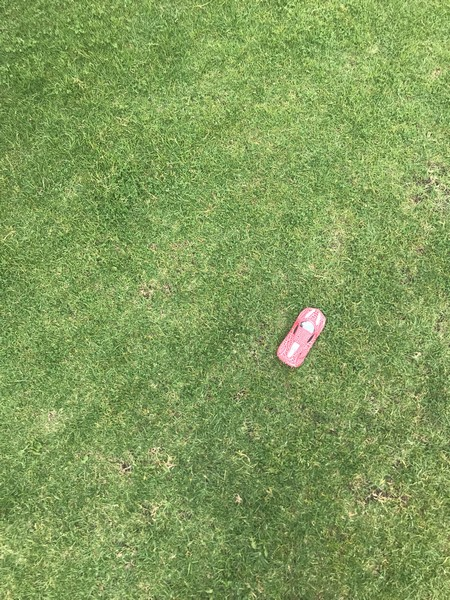RC: (274, 306, 327, 368)
